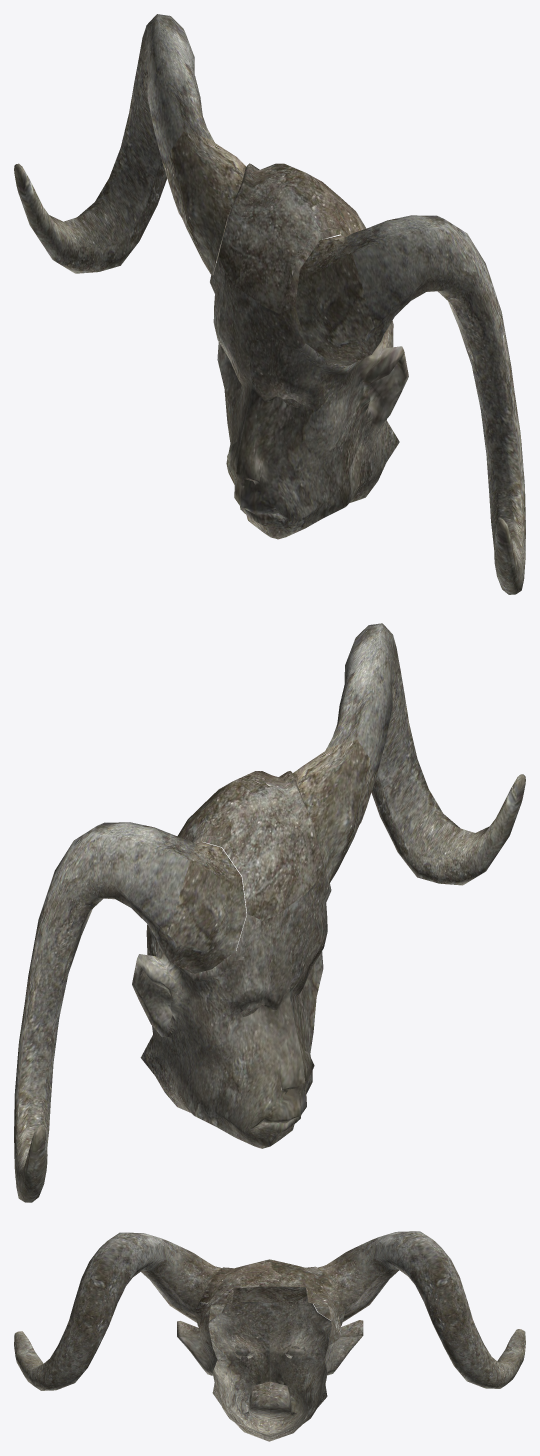
Rendered from Belial_BigFace.FBX.
The picture shows the model from 3 angles, top to bottom: view 1: azimuth 30°, elevation 25°; view 2: azimuth 150°, elevation 25°; view 3: azimuth 270°, elevation 25°; orthographic projection. The views are drawn at different scales.
Visible parts, largest first — view 1: Belial_BigFace; view 2: Belial_BigFace; view 3: Belial_BigFace.
Boxes of the visible parts, x1,y1,x2,y2 form: Belial_BigFace: (14,14,525,594); Belial_BigFace: (14,623,525,1202); Belial_BigFace: (14,1231,525,1441).
Size of the model in its own units: 37.46 by 134 by 294.
